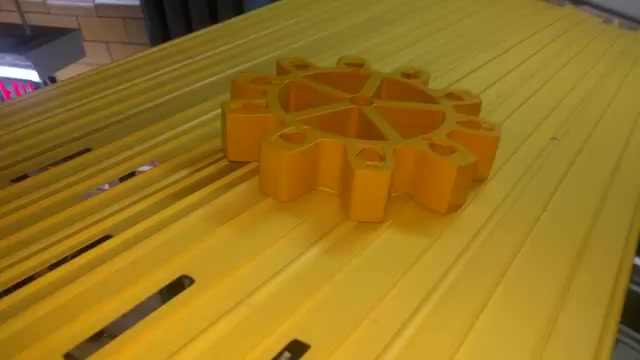gear: (216, 37, 506, 229)
